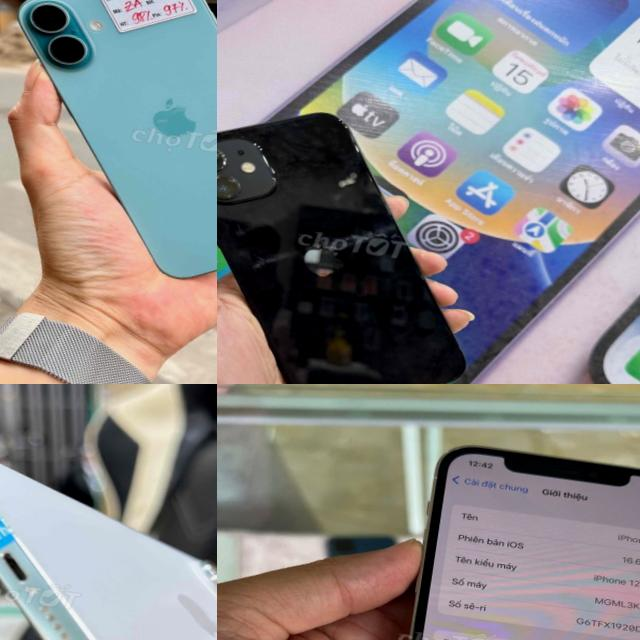gen_12_13: (217, 90, 501, 384), (374, 426, 640, 640)
gen_14: (0, 437, 217, 640)
gen_16: (19, 0, 217, 277)
